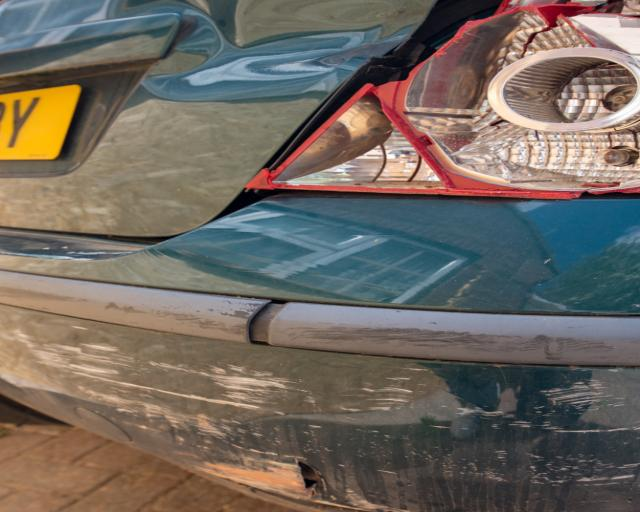crack: (298, 462, 319, 498)
dent: (146, 0, 436, 103)
lamp broken: (245, 0, 640, 199)
scratch: (0, 313, 640, 489), (0, 284, 256, 330), (282, 324, 619, 357)
